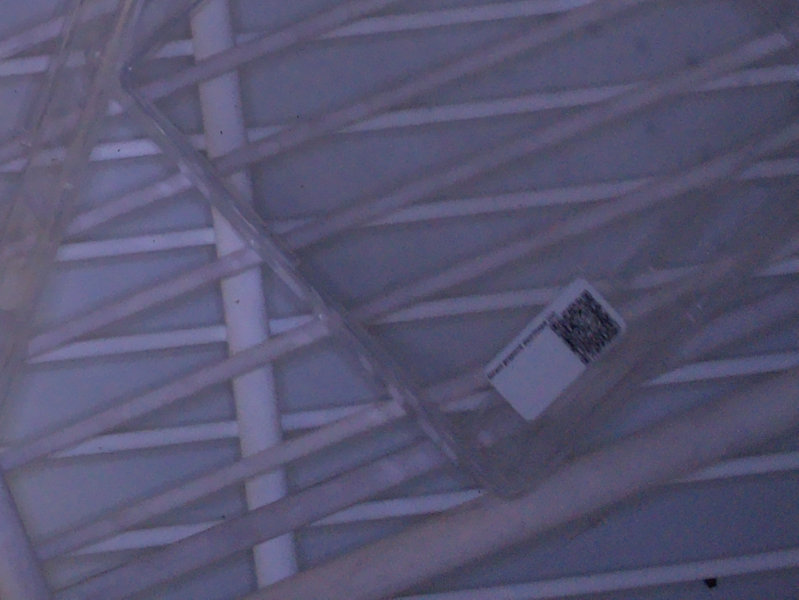plate: (107, 1, 799, 503), (1, 1, 144, 425)
